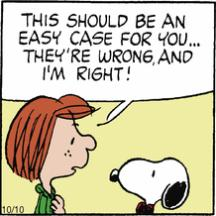snoopy: (108, 156, 190, 216)
